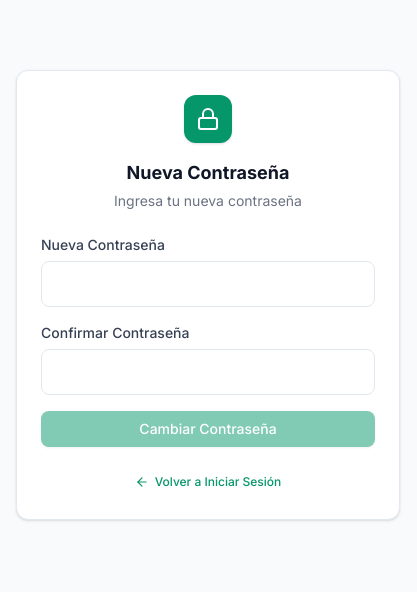
ResetPasswordPage › actualiza la contraseña y muestra la confirmación
This screenshot has width=417, height=592.
Type "Abcdef12" into the 1st password field at point(208, 284), box [41, 261, 375, 307]
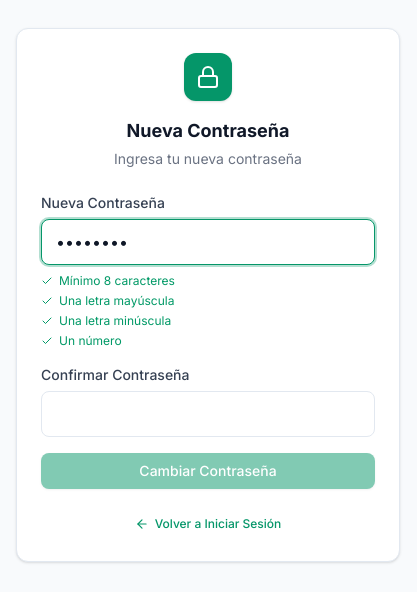
Type "Abcdef12" into the password field below "Confirmar Contraseña" at point(208, 414), box [41, 391, 375, 437]
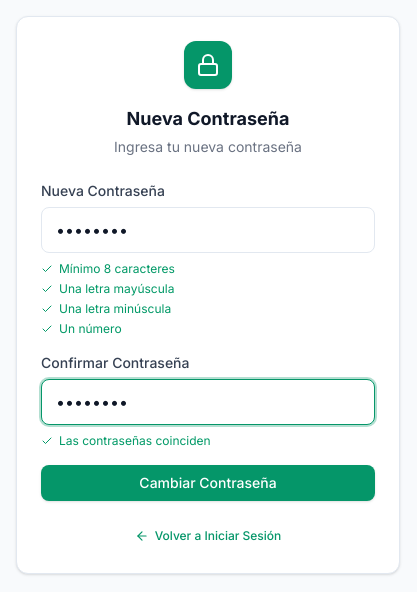
Click the button "Cambiar Contraseña" at point(208, 483), box [41, 465, 375, 501]
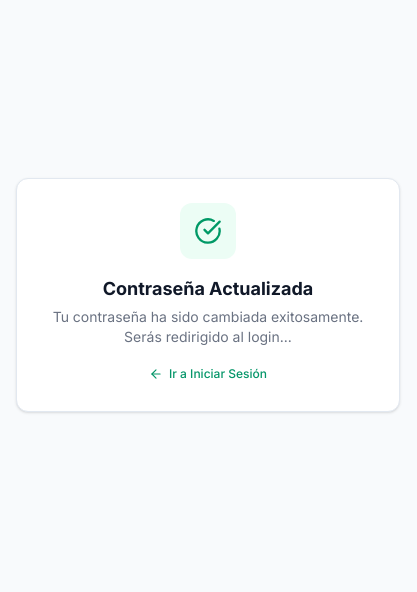
Now the heading "Contraseña Actualizada" is shown, box [103, 278, 313, 299]
